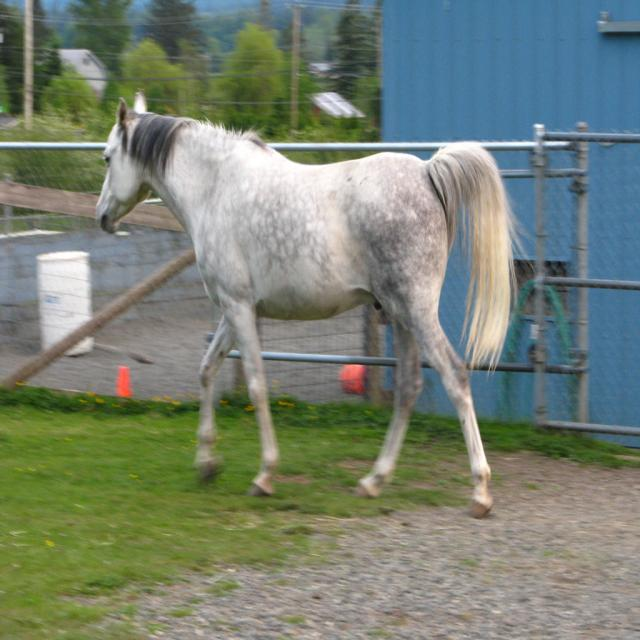Horse: (98, 92, 530, 519)
